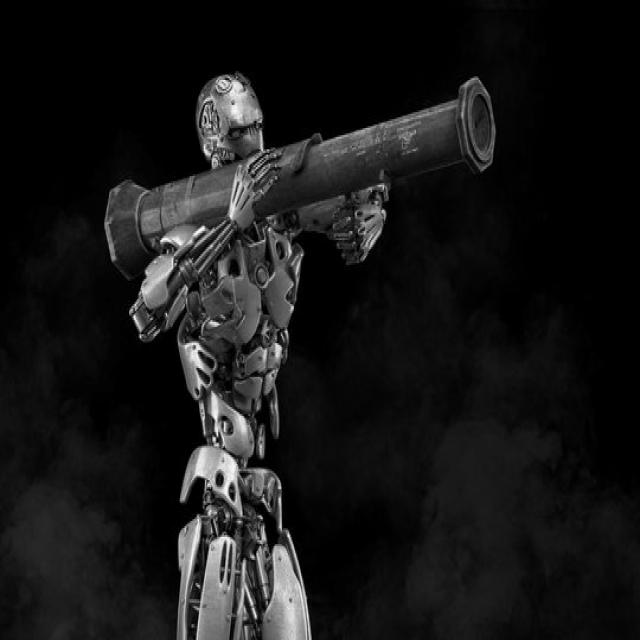Lancher: (73, 58, 509, 332)
